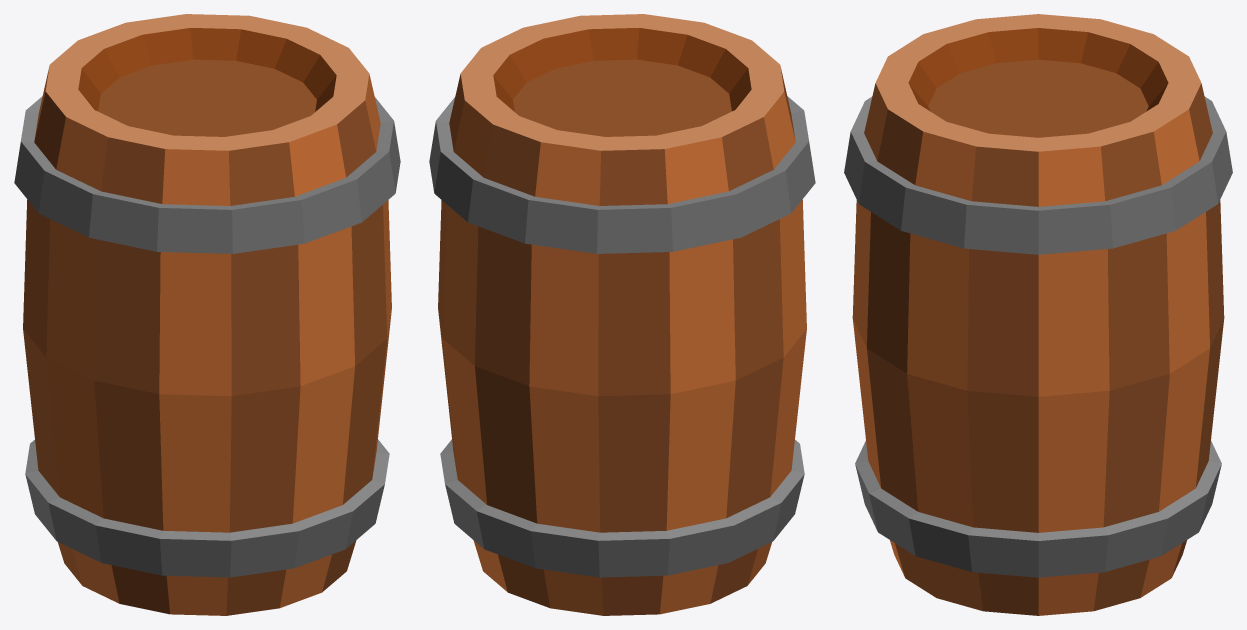
The model's file is barrel_01.fbx.
3 renders of one model, left to right at view 1: azimuth 30°, elevation 25°; view 2: azimuth 150°, elevation 25°; view 3: azimuth 270°, elevation 25°, orthographic.
Parts seen in each view (by area): view 1: Box072.001; view 2: Box072.001; view 3: Box072.001.
Boxes of the visible parts, x1,y1,x2,y2 form: Box072.001: (14,14,400,615); Box072.001: (429,14,815,615); Box072.001: (844,14,1232,615).
Bounding box in the file's own units: 0.7437 × 0.9962 × 0.7437.
